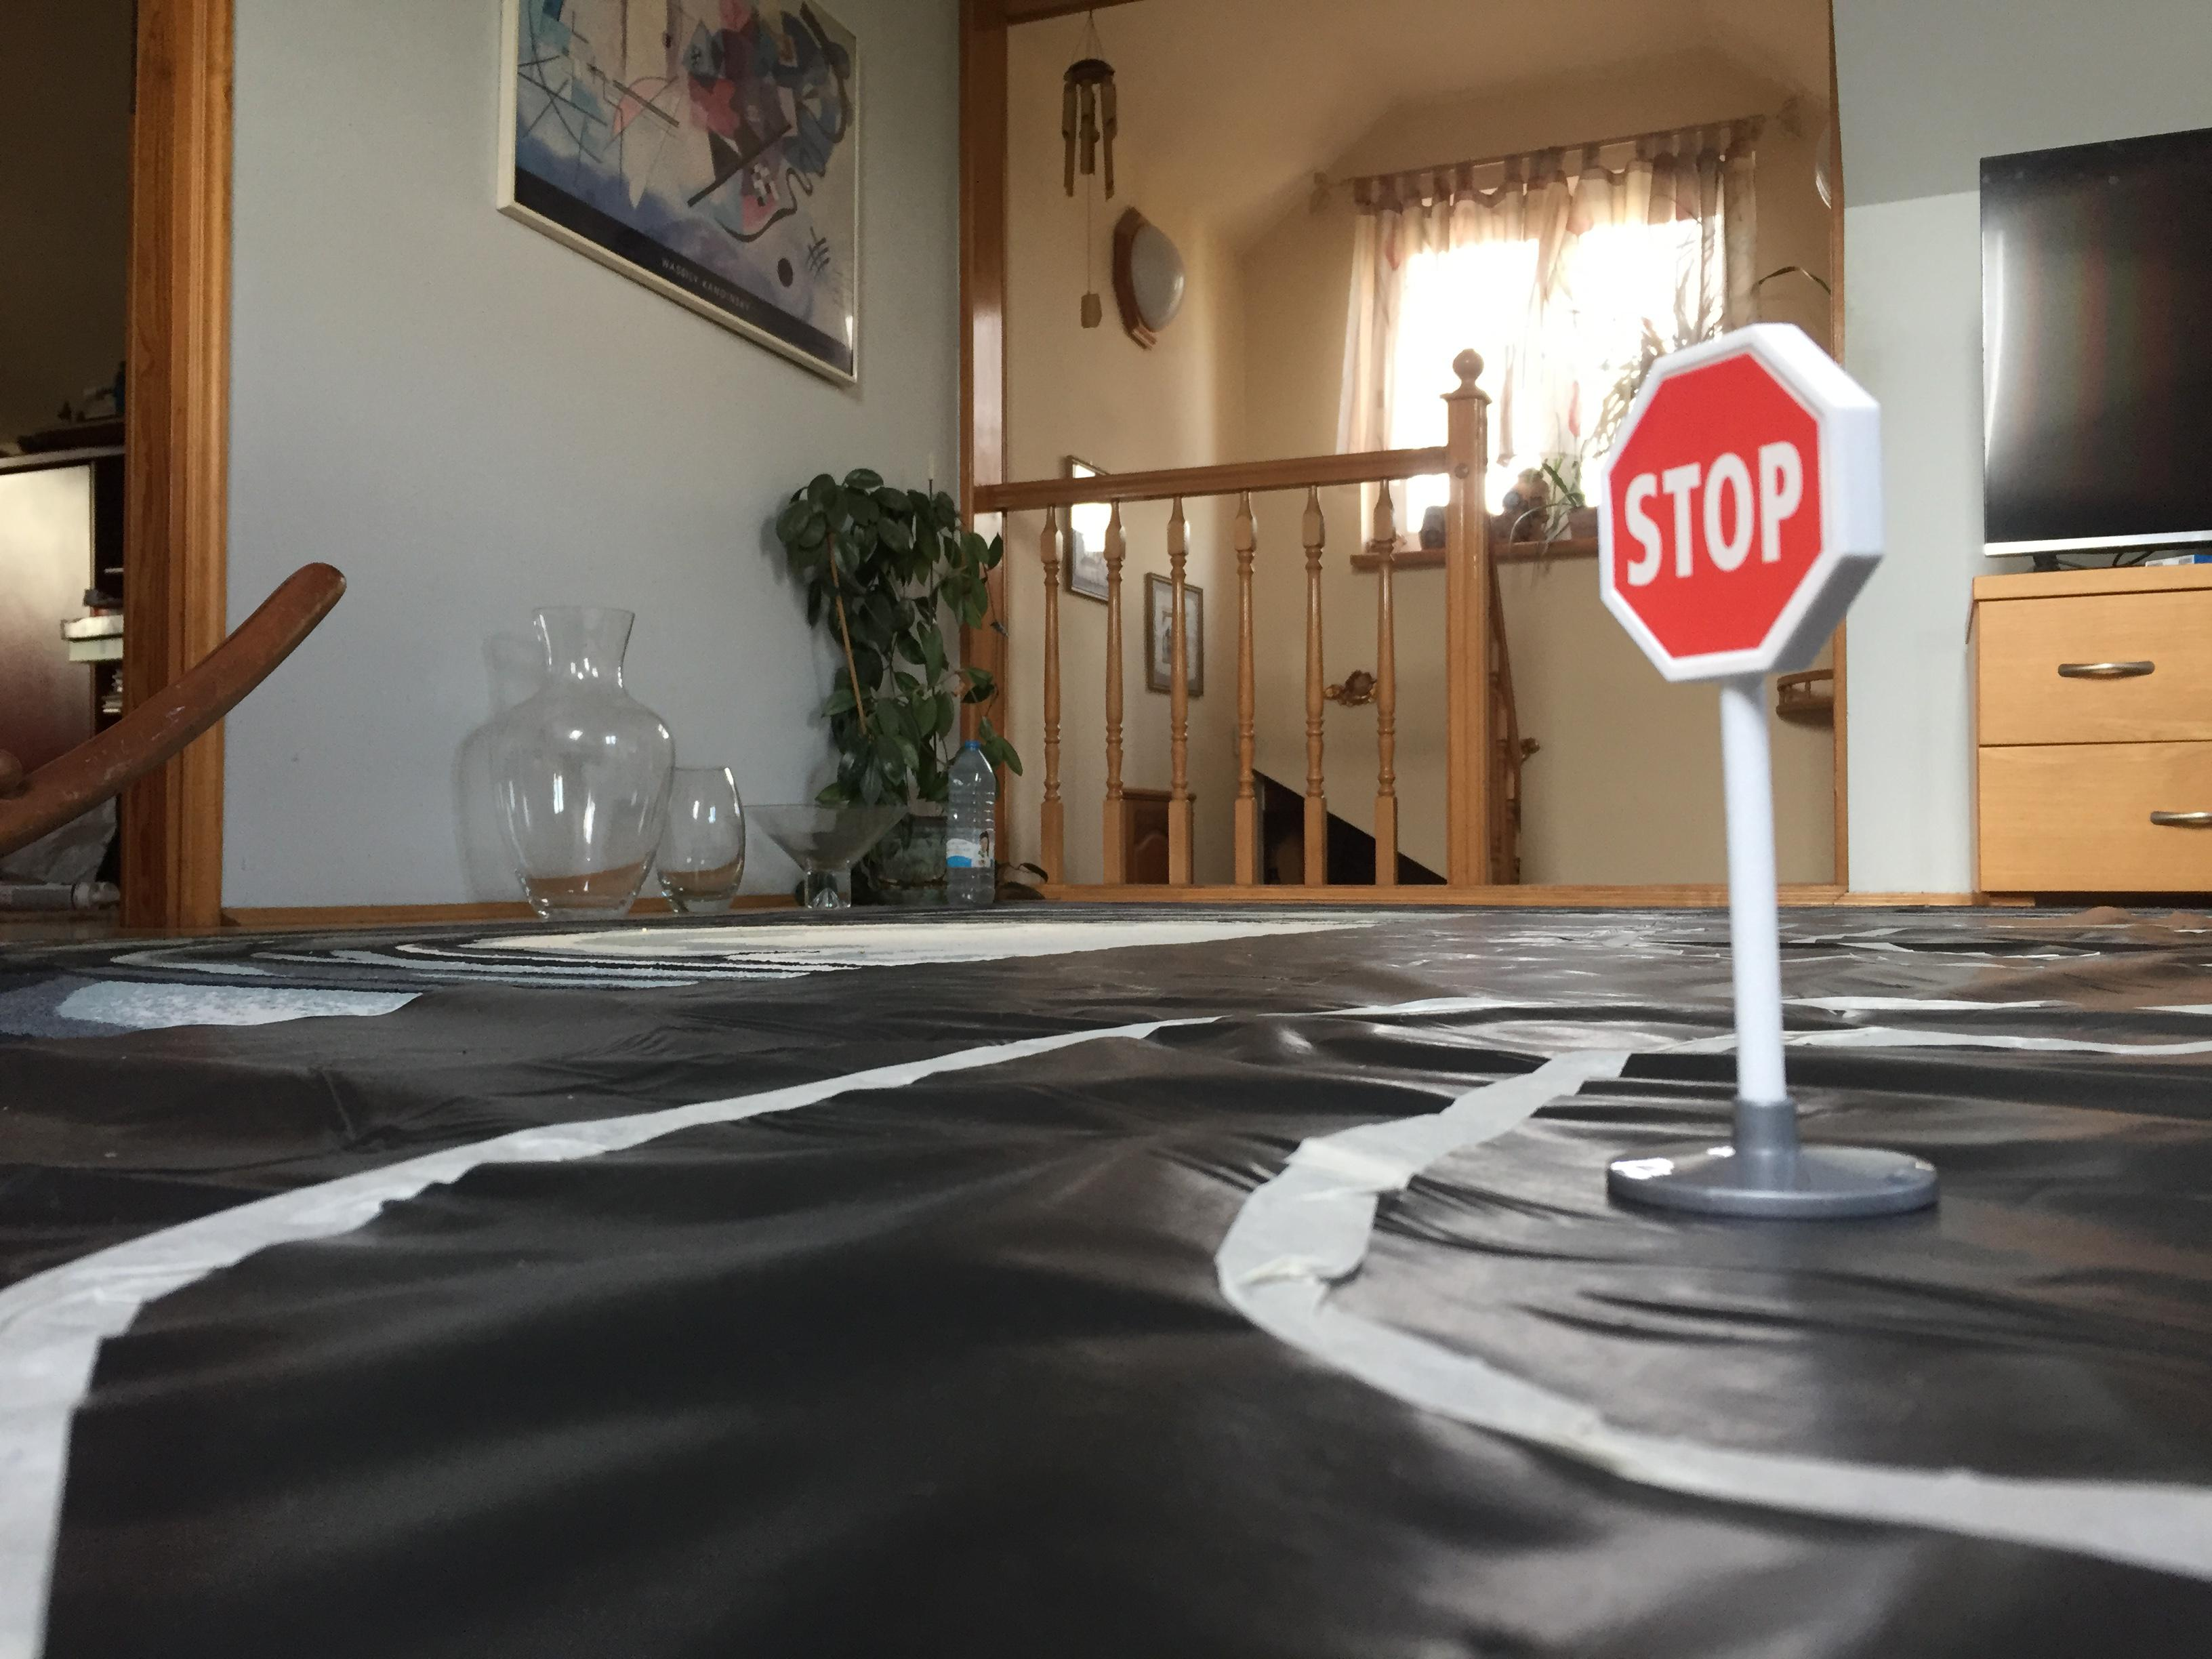stop: (1587, 314, 1890, 699)
